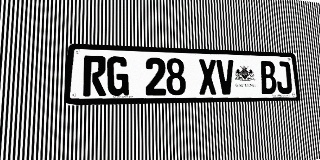2: (145, 57, 166, 96)
8: (166, 58, 186, 95)
B: (259, 61, 277, 94)
G: (107, 56, 129, 96)
J: (275, 61, 292, 94)
R: (83, 55, 106, 96)
V: (216, 59, 235, 95)
X: (198, 59, 217, 95)
